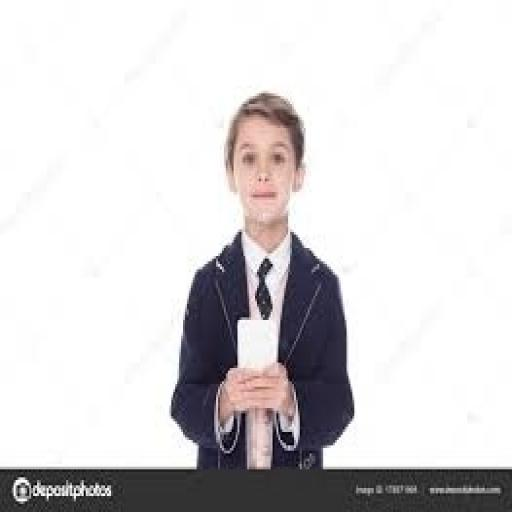texting: (168, 88, 356, 469)
